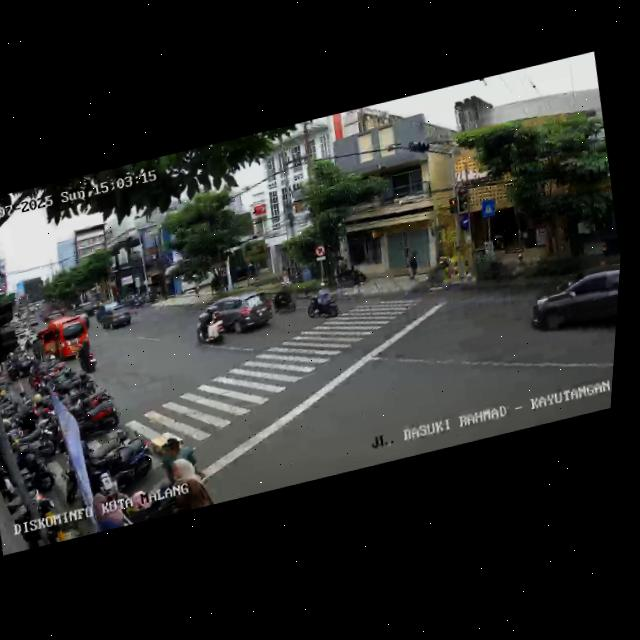car: (527, 260, 620, 352), (194, 286, 277, 346), (32, 311, 94, 367), (95, 297, 139, 336)
motorcycle: (191, 302, 230, 353), (302, 282, 342, 325), (74, 335, 101, 379), (271, 279, 300, 316)
person: (164, 450, 218, 514), (155, 432, 210, 494)
